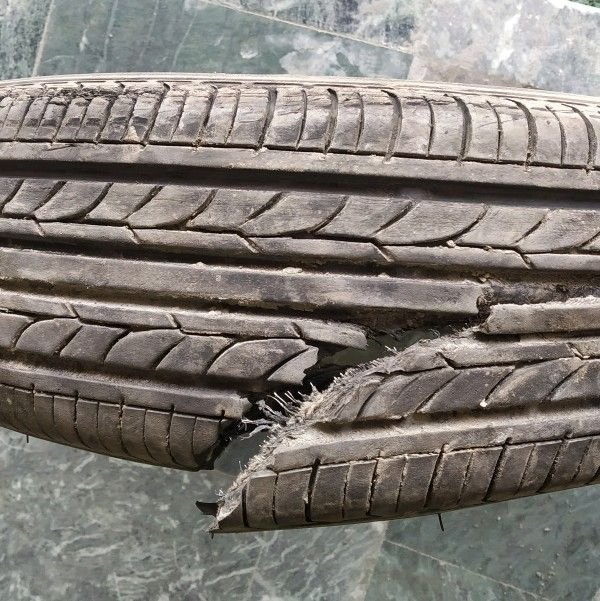bead_damage: (208, 281, 598, 514)
